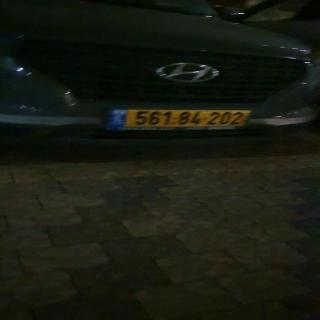LicensePlate: (128, 110, 247, 128)
